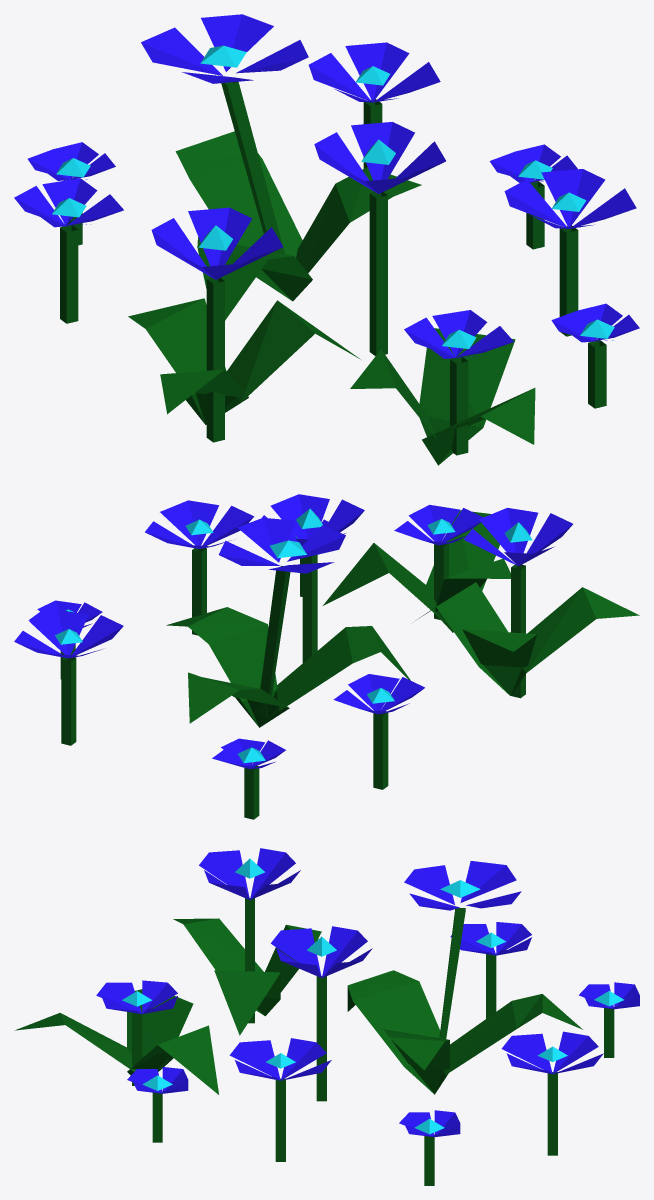
File: obj_flowerbed_3_0.obj
3 views of the same model, one above another, from view 1: azimuth 30°, elevation 25°; view 2: azimuth 150°, elevation 25°; view 3: azimuth 270°, elevation 25° (orthographic). The views are drawn at different scales.
Bounding box in the file's own units: 0.7656 × 0.3438 × 0.9531.
